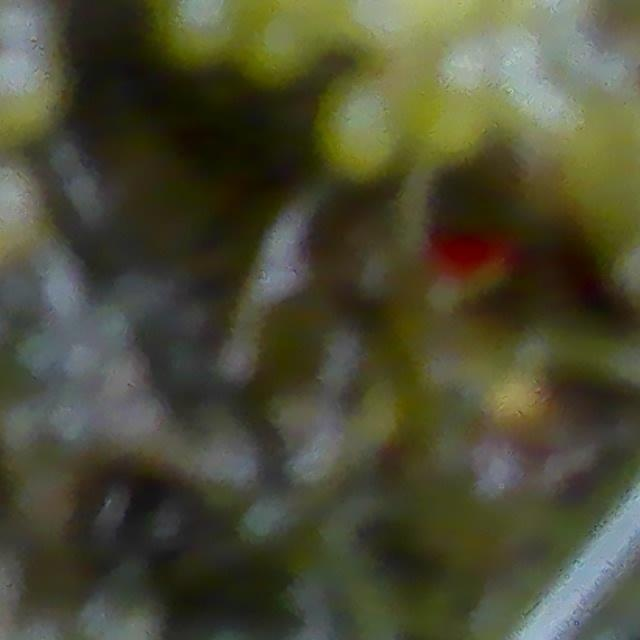SeaGrape: (312, 75, 412, 184), (241, 9, 321, 87), (160, 0, 250, 69), (0, 167, 45, 232)
